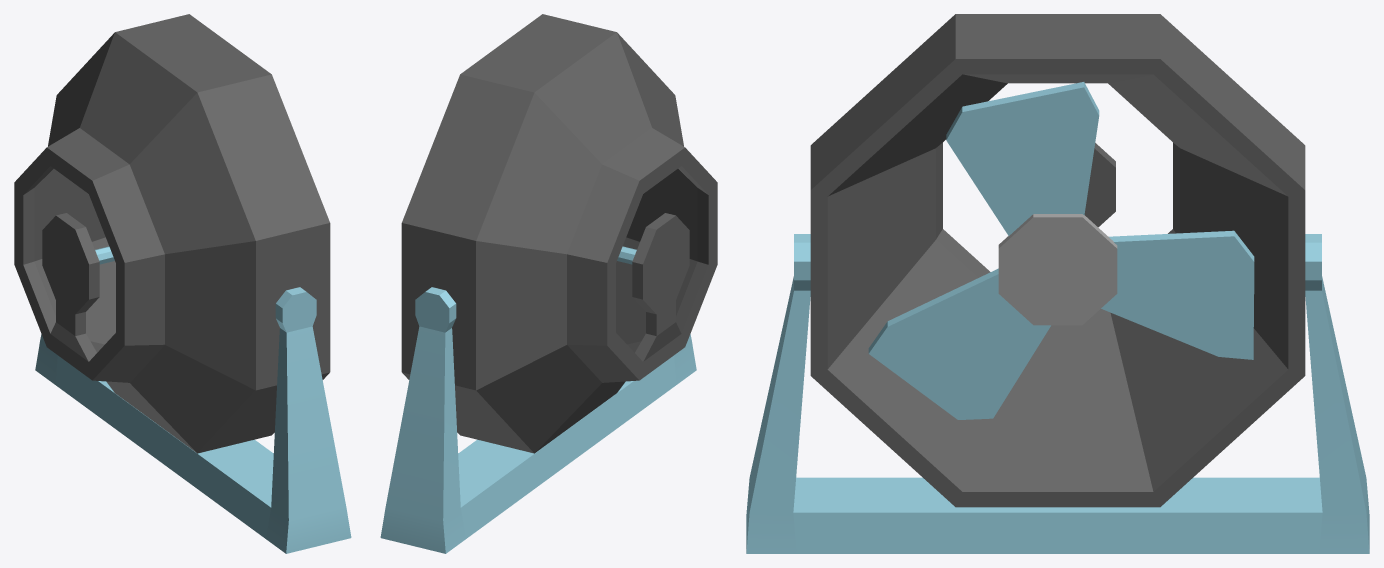
Rendered from fan.fbx.
3 views of the same model, side by side, from view 1: azimuth 30°, elevation 25°; view 2: azimuth 150°, elevation 25°; view 3: azimuth 270°, elevation 25° (orthographic). The views are drawn at different scales.
Parts seen in each view (by area): view 1: backplate, Base; view 2: backplate, Base; view 3: backplate, Base, fanblade, faceplate.
Part boxes in pixels (x1,y1,x2,y2): backplate: (14, 14, 330, 453); Base: (35, 287, 351, 553); backplate: (401, 14, 717, 453); Base: (380, 287, 696, 553); backplate: (810, 14, 1305, 507); Base: (746, 234, 1369, 553); fanblade: (868, 82, 1254, 419); faceplate: (998, 214, 1117, 325).
Size of the model in its own units: 7.85 by 18.23 by 20.68.
